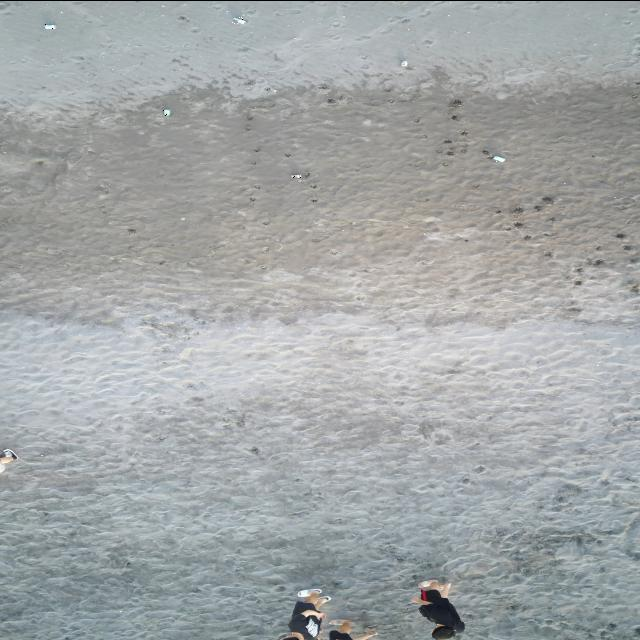Garbage: (0, 449, 16, 472), (483, 148, 504, 161), (296, 587, 320, 597), (0, 448, 16, 462), (291, 172, 310, 180), (233, 16, 246, 23), (492, 155, 504, 161), (163, 108, 171, 116), (292, 173, 300, 180), (44, 23, 55, 28), (400, 60, 407, 67), (0, 464, 4, 472), (180, 216, 184, 220)
